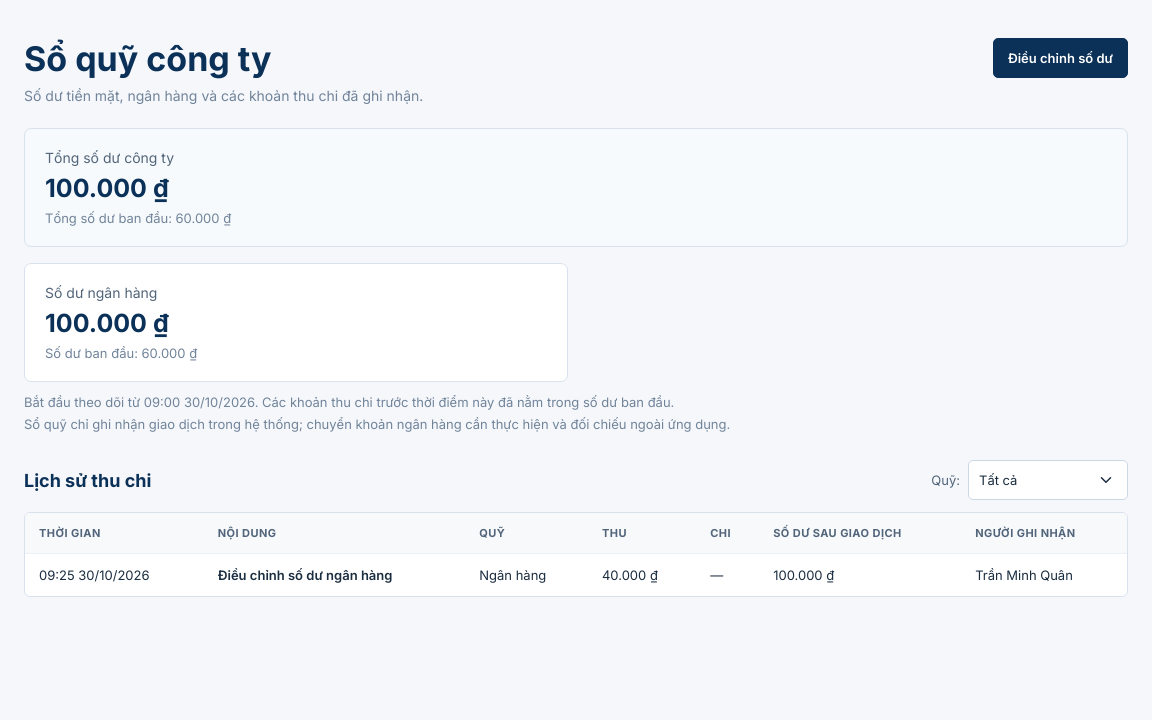
Test case: lý do điều chỉnh chỉ hiển thị trong chi tiết giao dịch
The width and height of the screenshot is (1152, 720).
Expected: the text "Nhập sai số dư khi bắt đầu theo dõi, đã đối chiếu lại với sao kê ngân hàng." is not shown
What coordinates should you click on to do the following:
click the text "Điều chỉnh số dư ngân hàng"
I would click on:
 (94, 575)
Its box is [25, 554, 1127, 596].
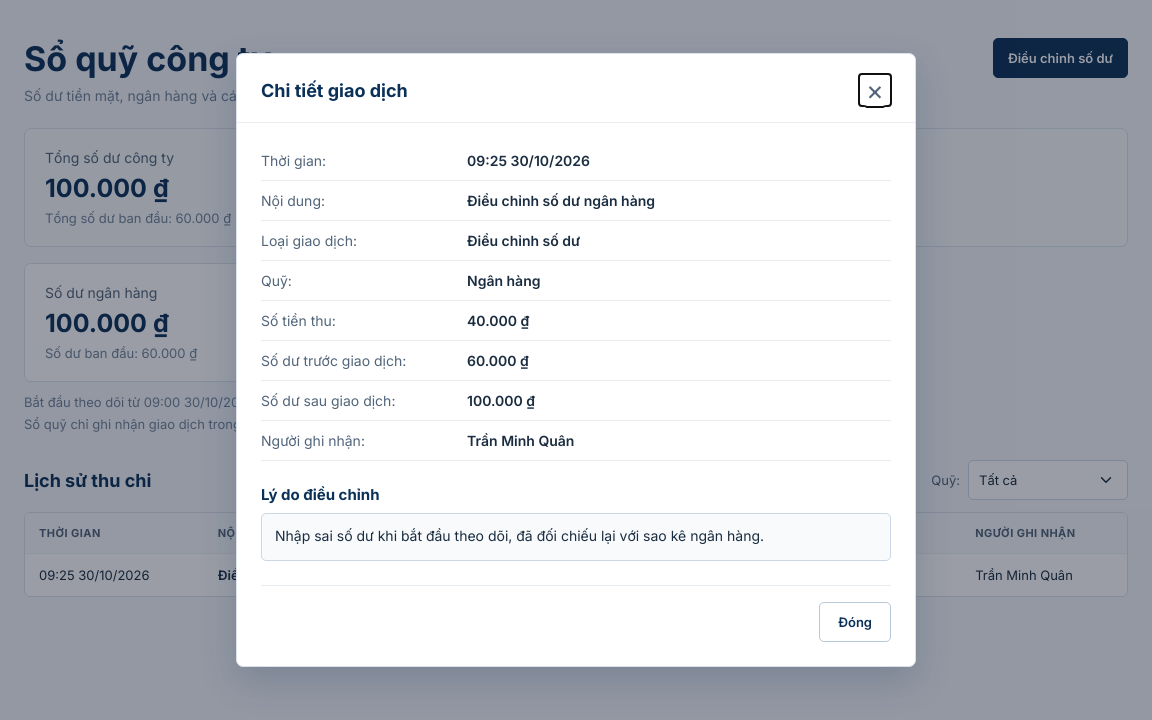
Expected: the dialog "Chi tiết giao dịch" is shown, [236, 53, 916, 667]
Expected: the text "Nhập sai số dư khi bắt đầu theo dõi, đã đối chiếu lại với sao kê ngân hàng." is shown, [261, 513, 891, 561]
Expected: the heading "Lý do điều chỉnh" is shown, [261, 485, 380, 504]
What coordinates should you click on to do the following:
click the button named "Đóng chi tiết giao dịch"
I would click on:
 (875, 90)
Its box is [859, 74, 891, 106].
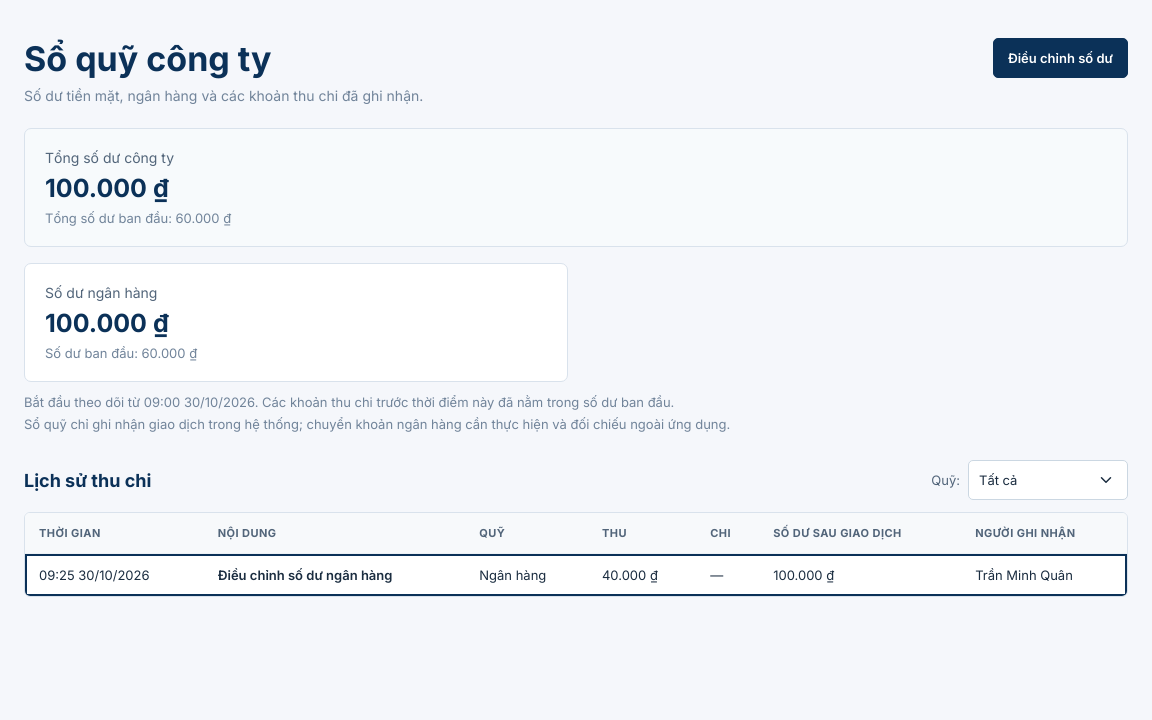
Expected: the text "Nhập sai số dư khi bắt đầu theo dõi, đã đối chiếu lại với sao kê ngân hàng." is gone
